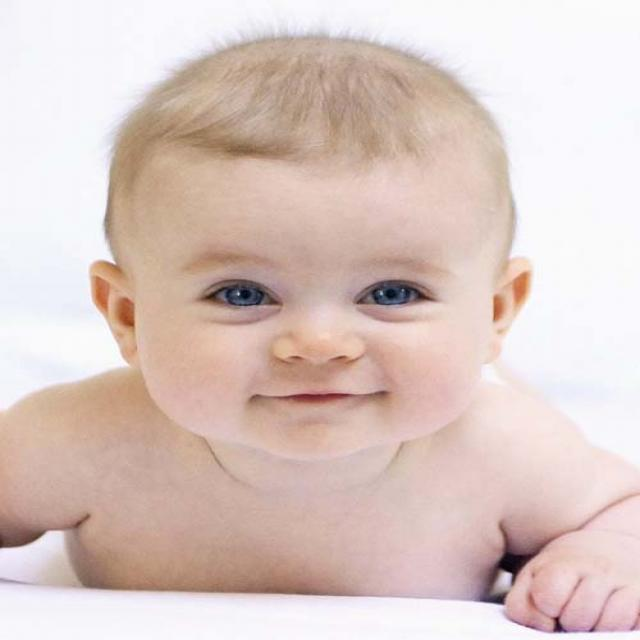earlobe: (118, 336, 142, 371), (483, 327, 505, 365)
eye: (205, 280, 276, 307), (356, 282, 428, 307)
nose: (275, 351, 361, 383)
wholeear: (88, 260, 143, 370), (484, 255, 534, 364)
